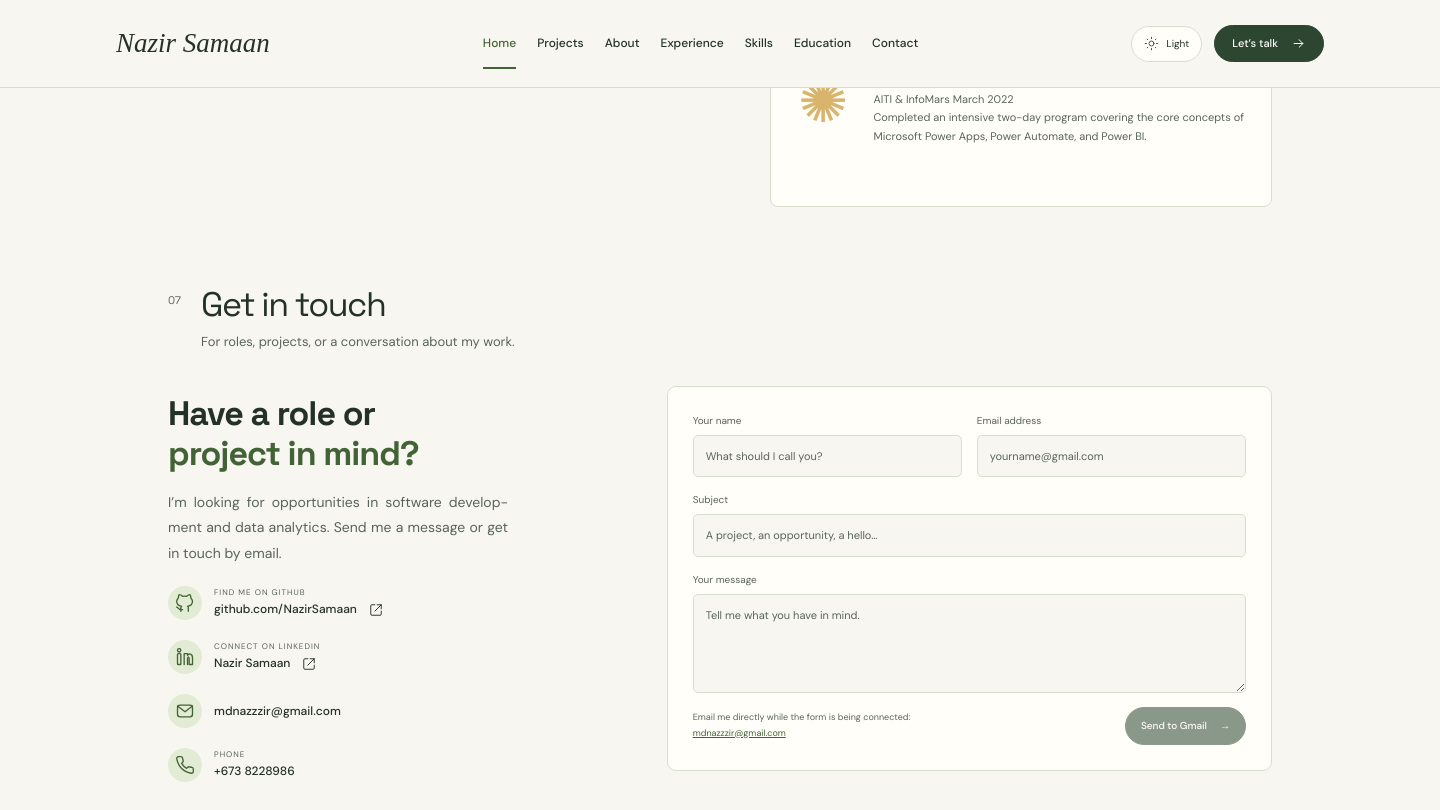
Test: contact form submits directly without opening Gmail
(page scrolled)
Type "Visitor" into the field labelled "Your name" at (827, 456), box 693,435 -> 962,477
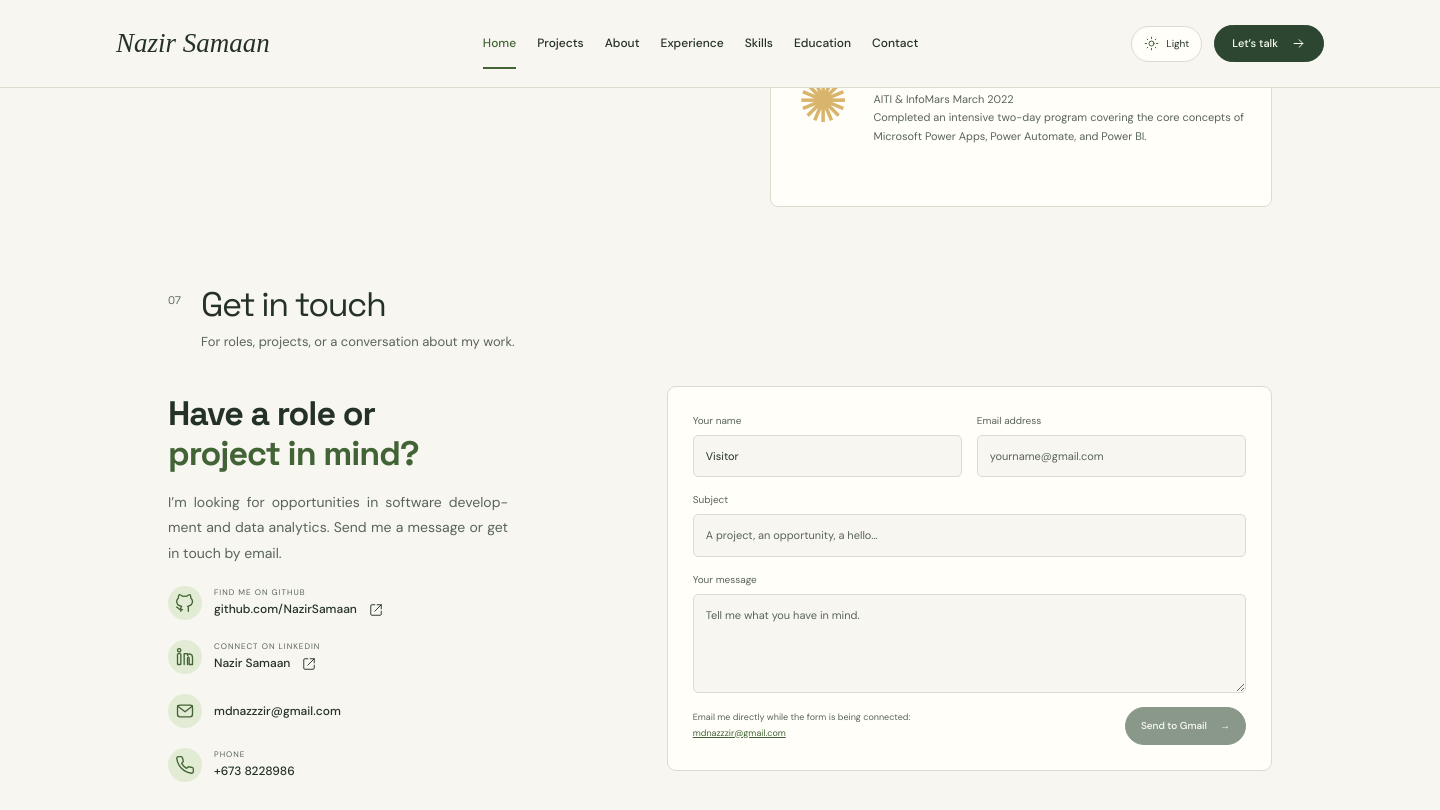
Type "visitor@gmail.com" into the field labelled "Email address" at (1111, 456), box 977,435 -> 1246,477
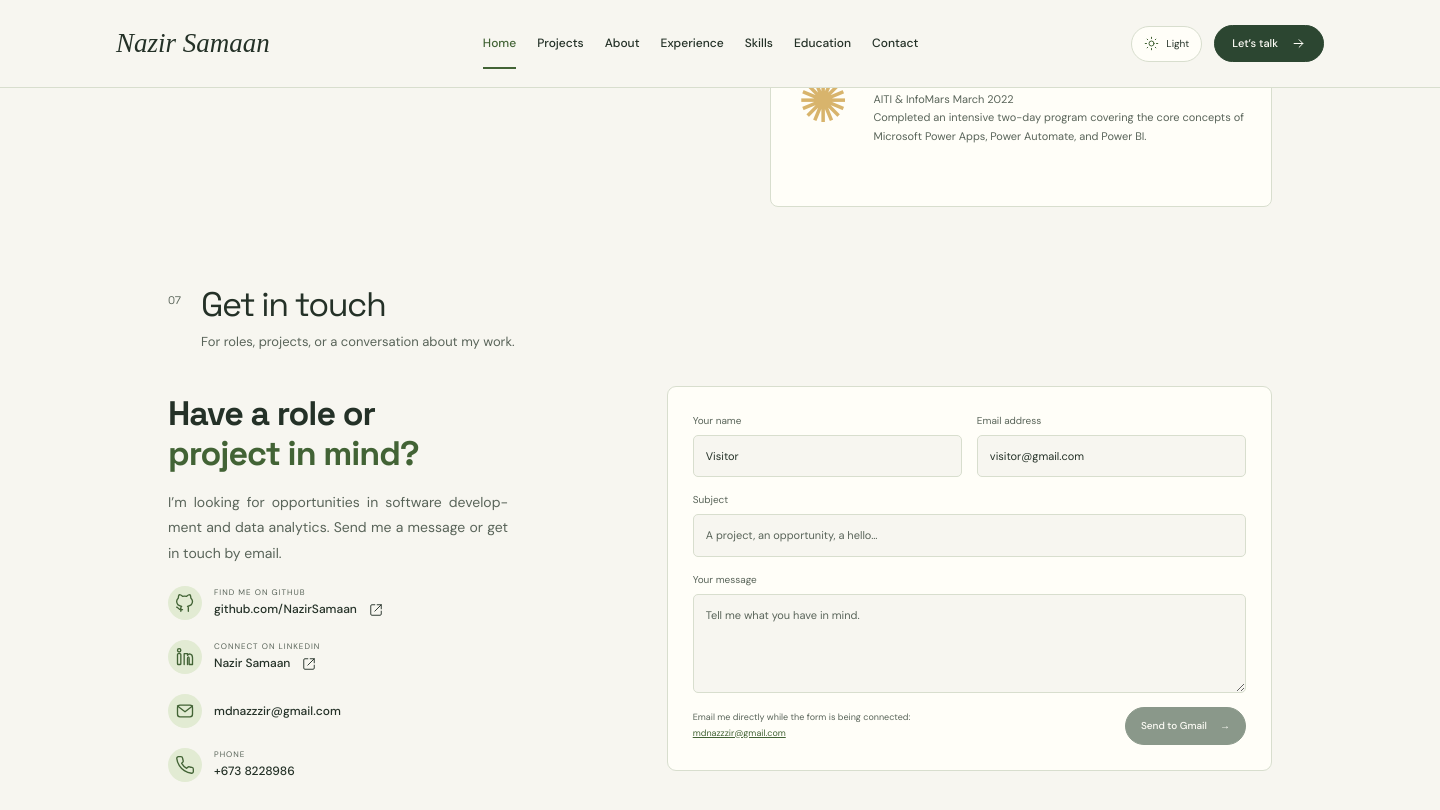
Type "Project idea" into the field labelled "Subject" at (969, 536), box 693,514 -> 1246,557
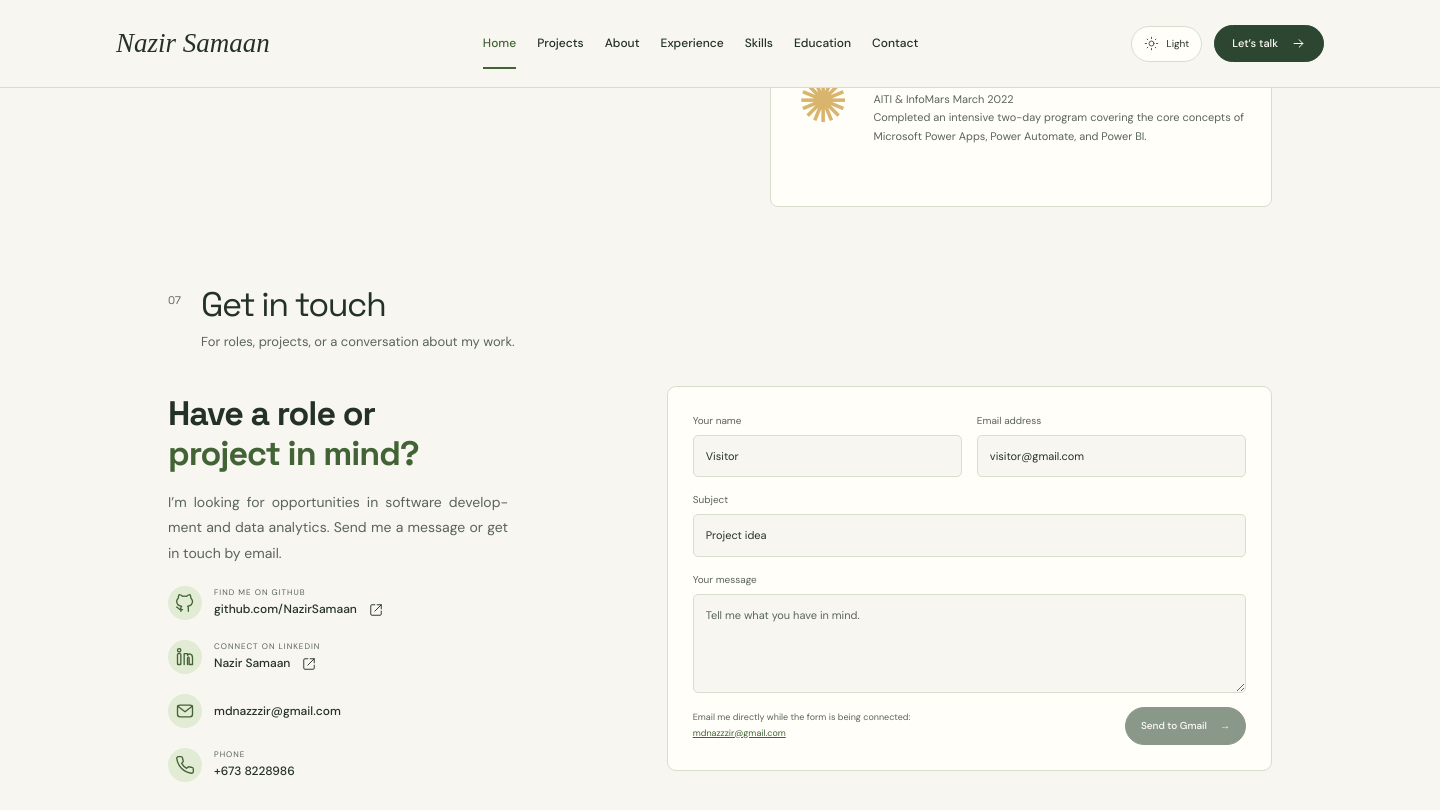
Type "Let us collaborate." into the text box labelled "Your message" at (969, 643), box 693,594 -> 1246,693
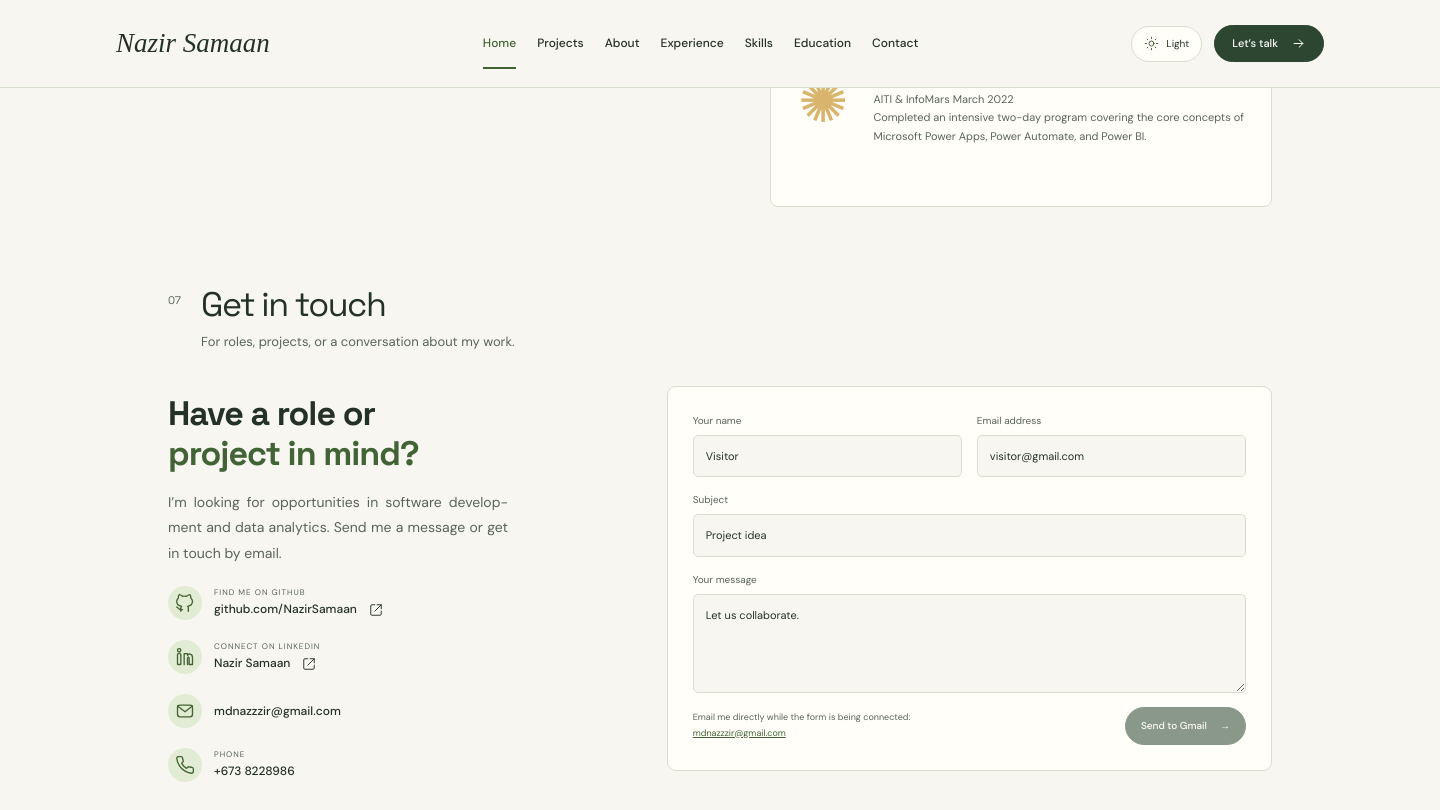
Submit the form with class "contact-form", box 667,386 -> 1272,771
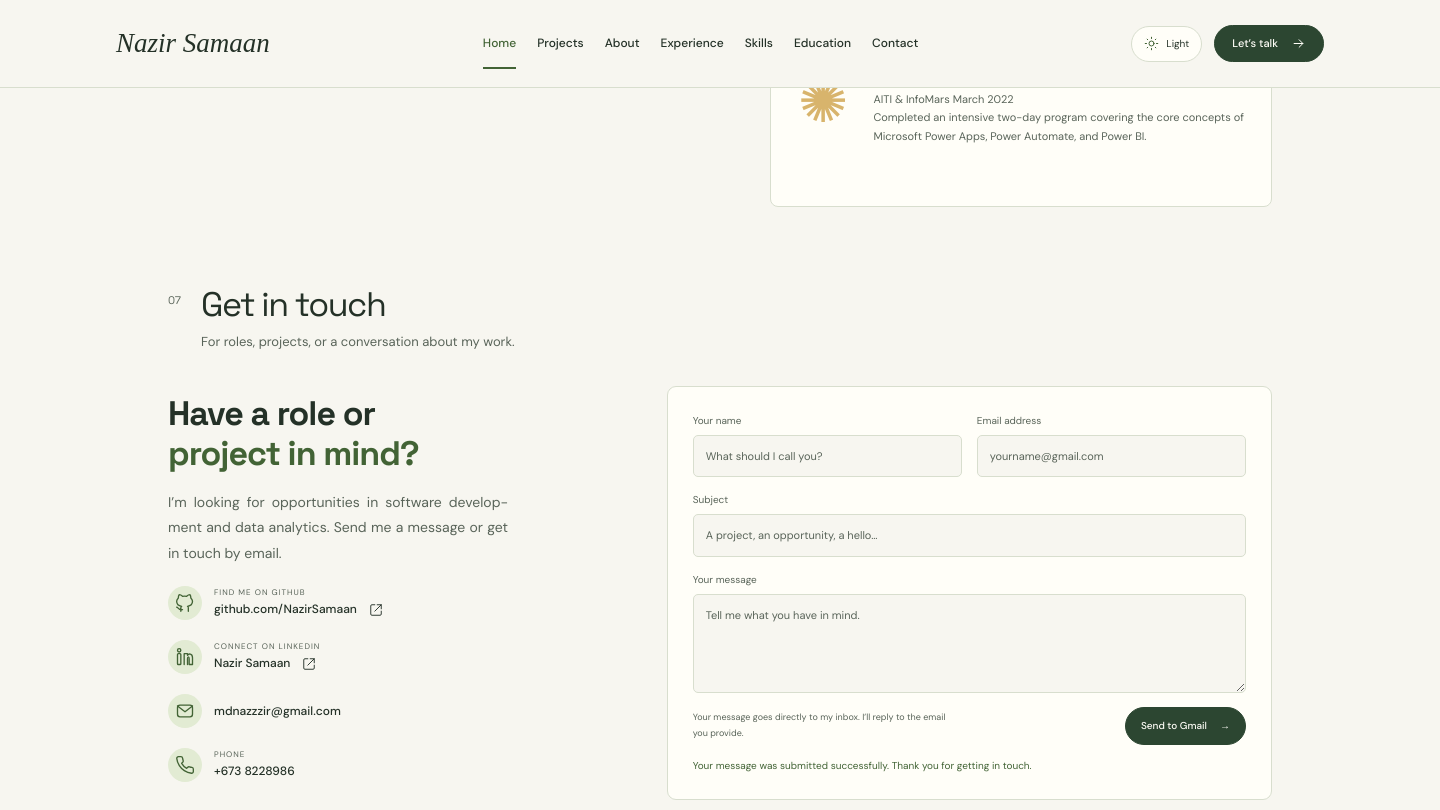
expect the message "Your message was submitted successfully. Thank you for getting in touch." is shown: met, box 693,759 -> 1032,772
